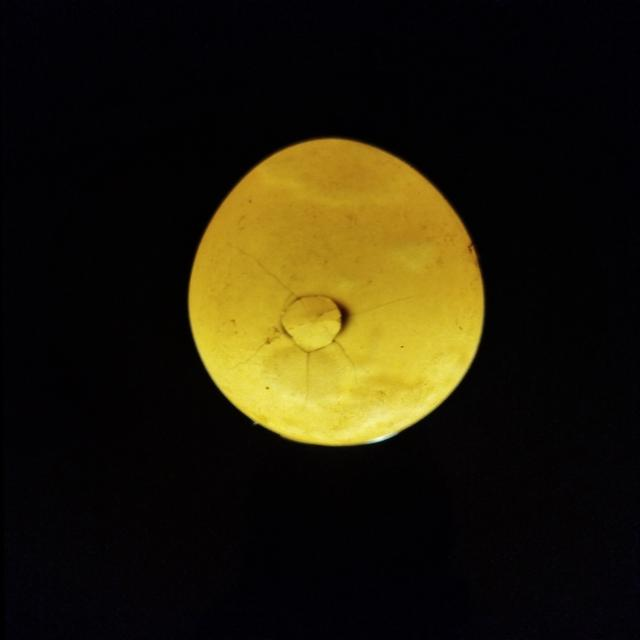Rachadura: (271, 284, 410, 364)
